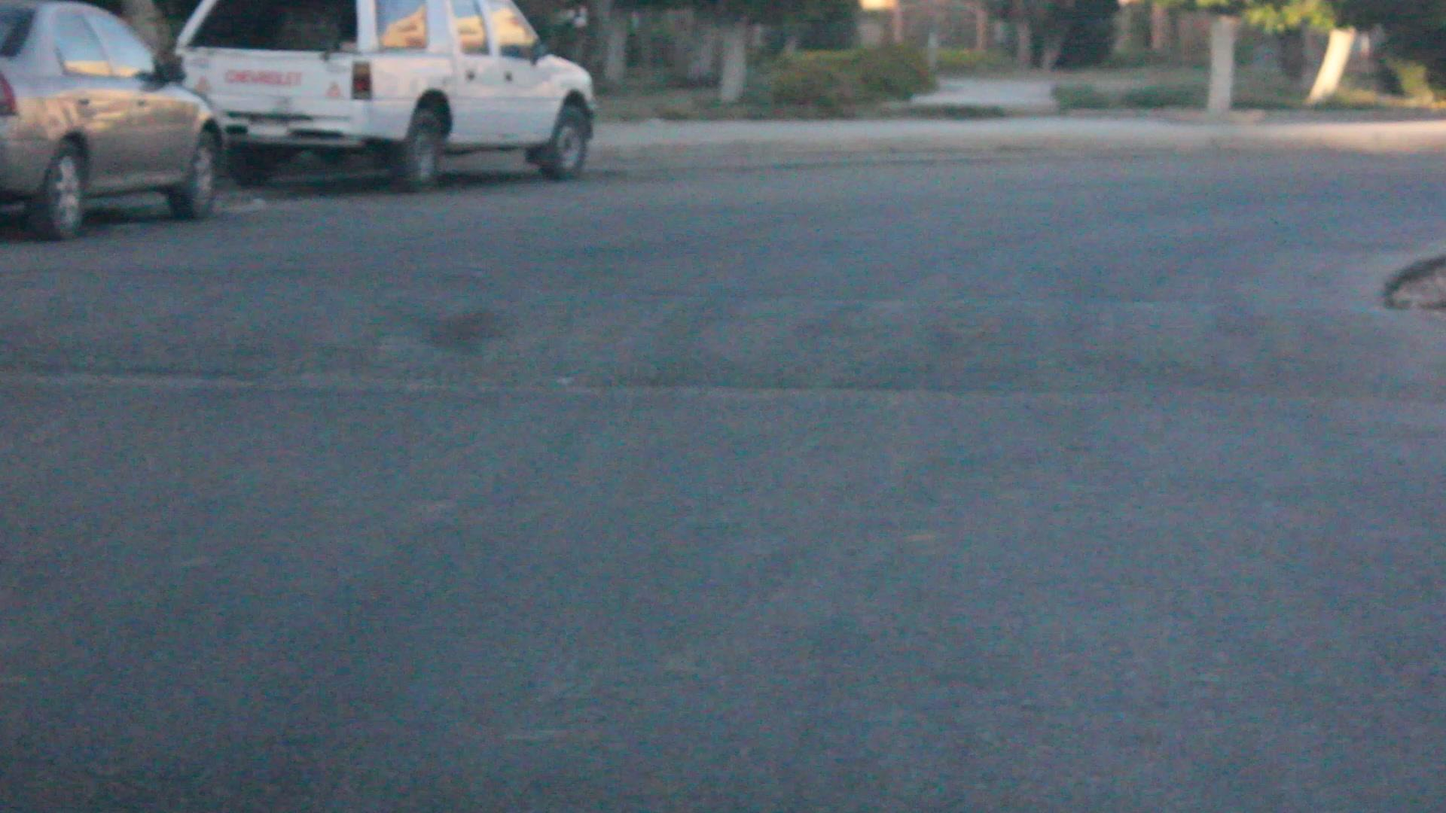Bump: (0, 267, 1433, 393)
